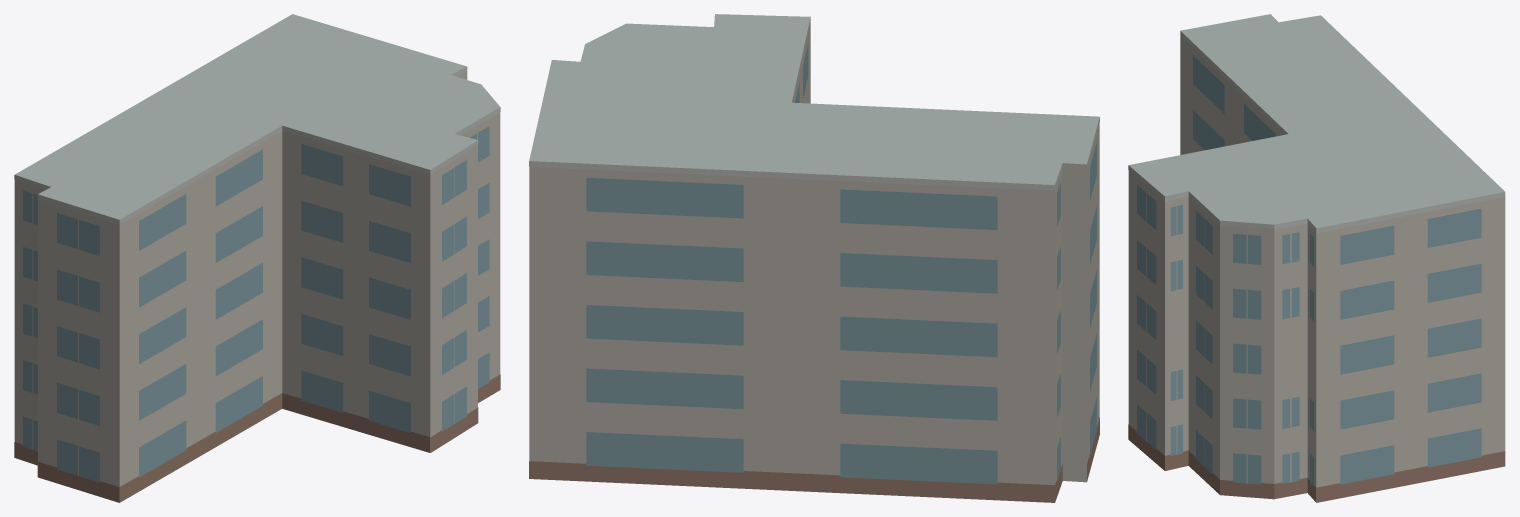
The model's file is survey-upis-32718073.glb.
3 views of the same model, side by side, from view 1: azimuth 30°, elevation 25°; view 2: azimuth 150°, elevation 25°; view 3: azimuth 270°, elevation 25° (orthographic). The views are drawn at different scales.
Parts seen in each view (by area): view 1: survey-upis-32718073.tmp; view 2: survey-upis-32718073.tmp; view 3: survey-upis-32718073.tmp.
Part boxes in pixels (bbox=[...]): survey-upis-32718073.tmp: bbox=[14, 14, 500, 502]; survey-upis-32718073.tmp: bbox=[529, 14, 1099, 502]; survey-upis-32718073.tmp: bbox=[1128, 14, 1505, 502].
Size of the model in its own units: 22.7 by 13.55 by 16.87.
